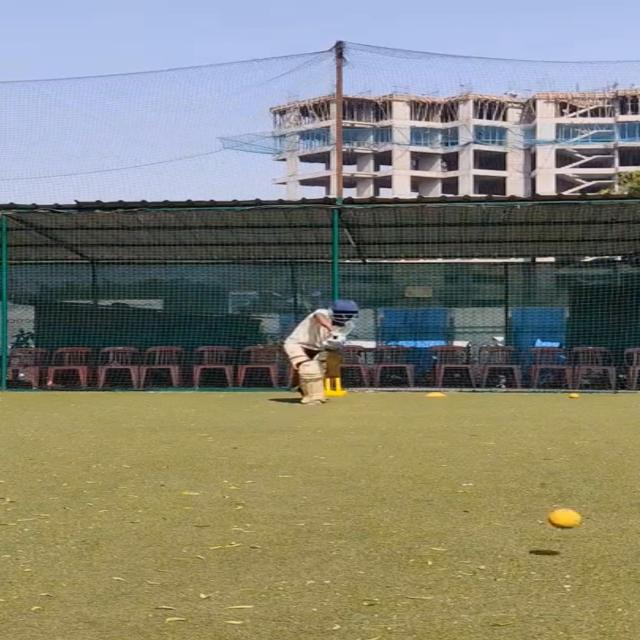ball: (542, 504, 586, 532)
